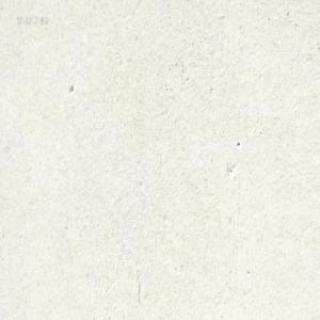Wrenchtrack_idkeyframe: (124, 0, 131, 4)
